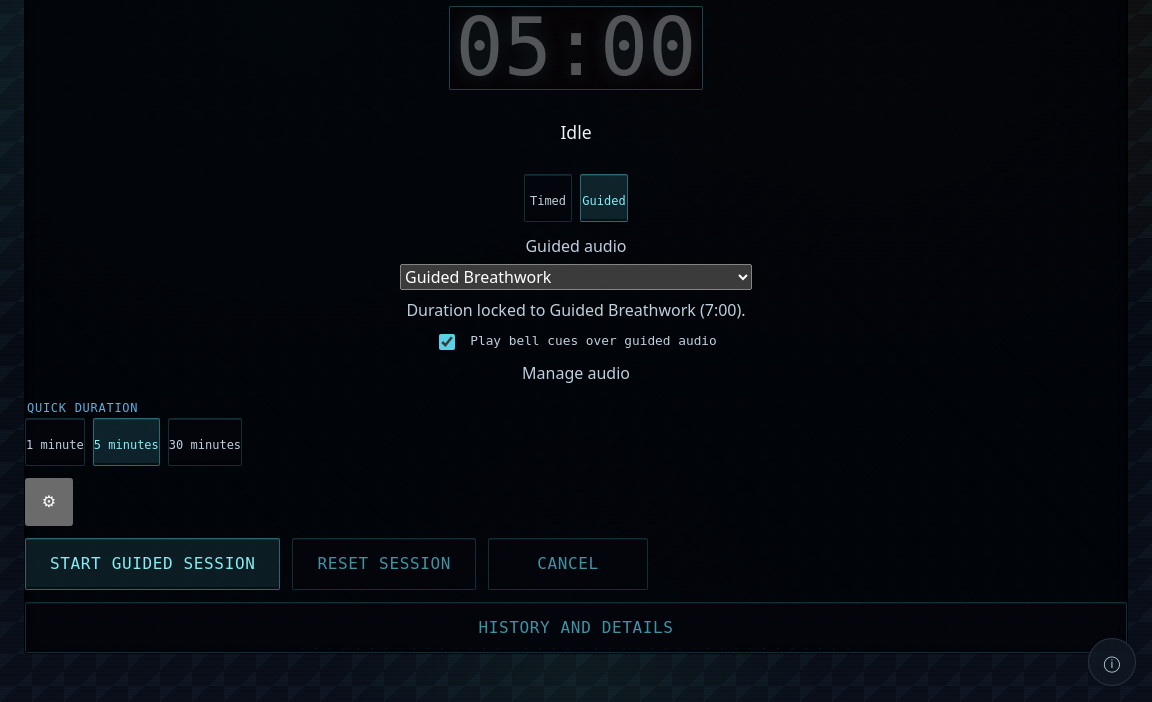
Test: guided meditation timer › loads guided mode by default when a default guided audio file is set
(page scrolled)
Expected: the element with test id "timer-mode-toggle" is shown, [524, 174, 628, 222]
Expected: the dropdown with test id "timer-guided-audio-select" shows "Guided Breathwork", [400, 264, 752, 290]
Click the button with test id "timer-details-toggle": (576, 627) [25, 602, 1127, 653]
(page scrolled)
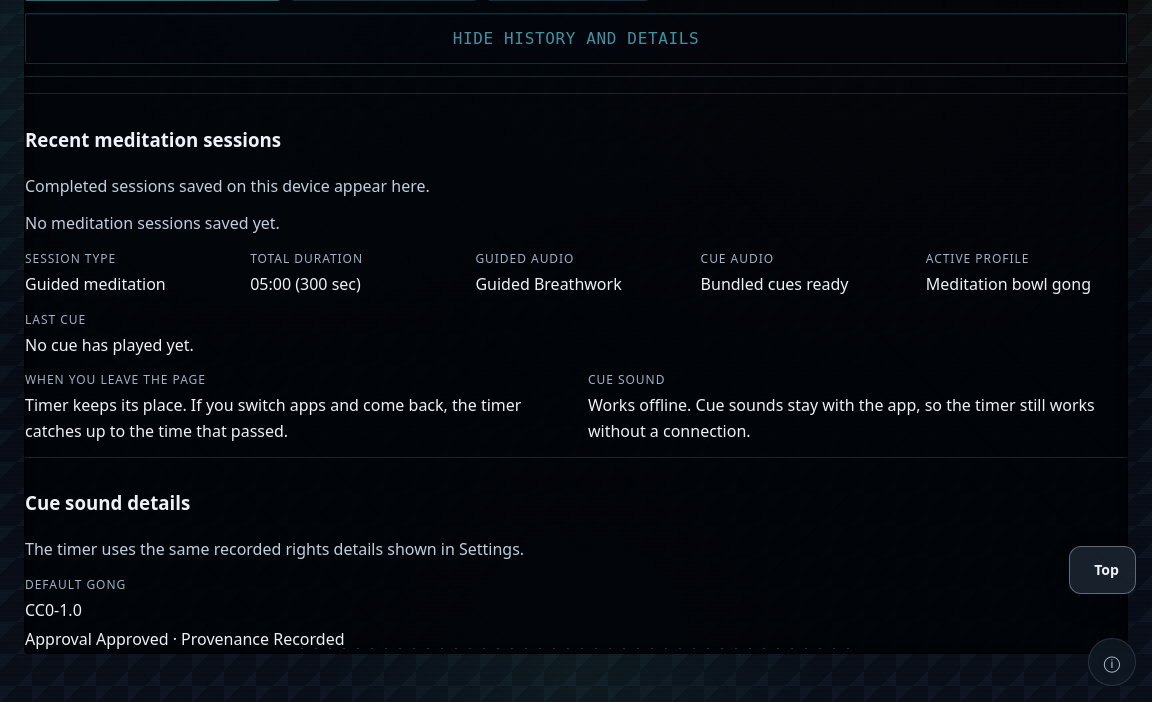
Result: the text with test id "timer-guided-audio-name" reads "Guided Breathwork" at [475, 273, 622, 295]
